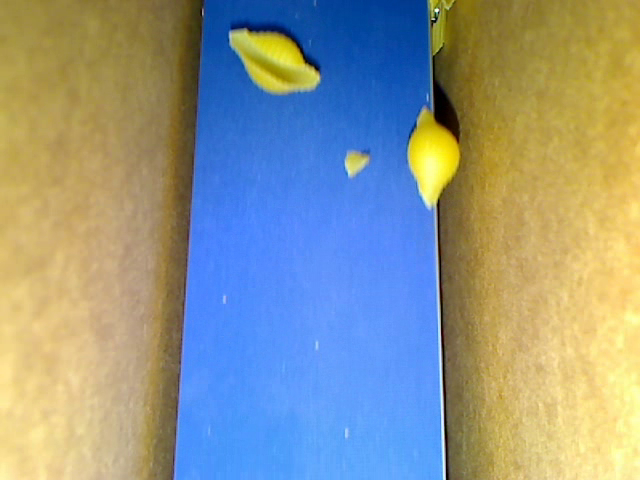penne: (430, 1, 447, 59), (434, 1, 455, 13)
shell: (228, 28, 319, 95), (407, 106, 460, 208)
